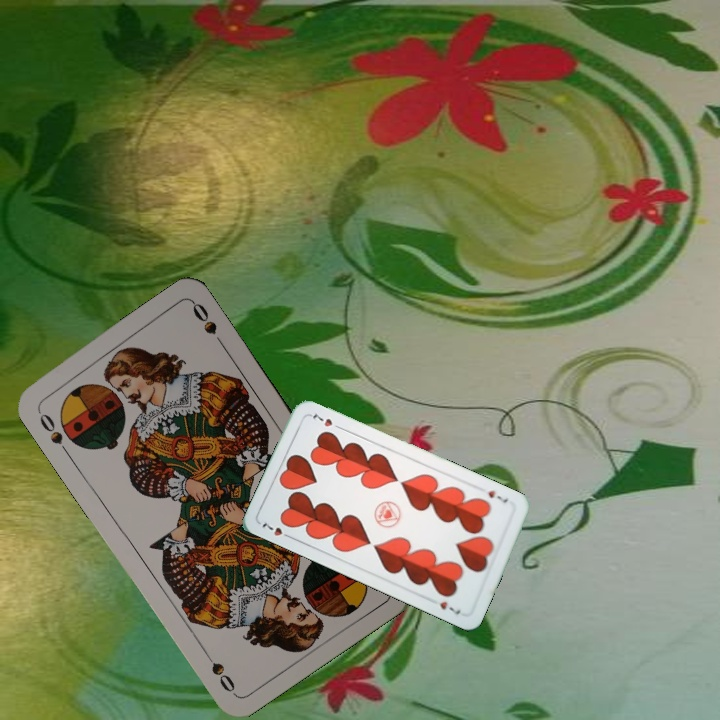H7: (258, 518, 295, 541), (484, 486, 511, 506)
SO: (33, 405, 72, 457)
